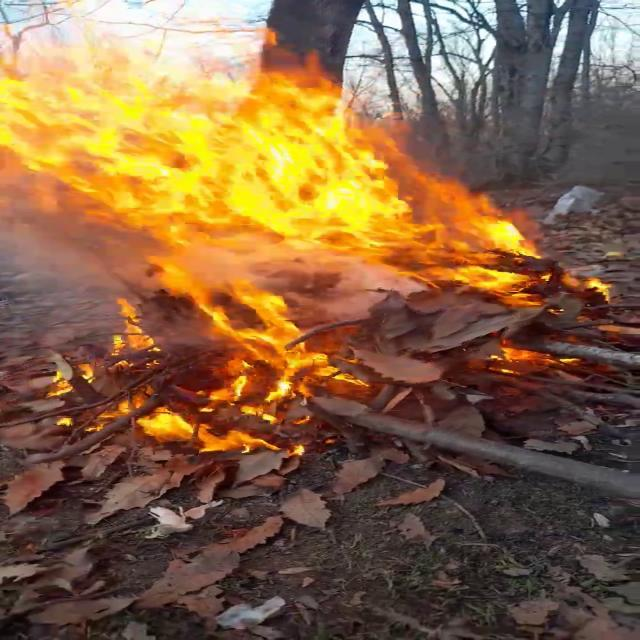Fire: (1, 34, 622, 456)
